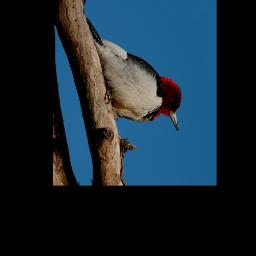Woodpecker: (86, 0, 188, 145)
